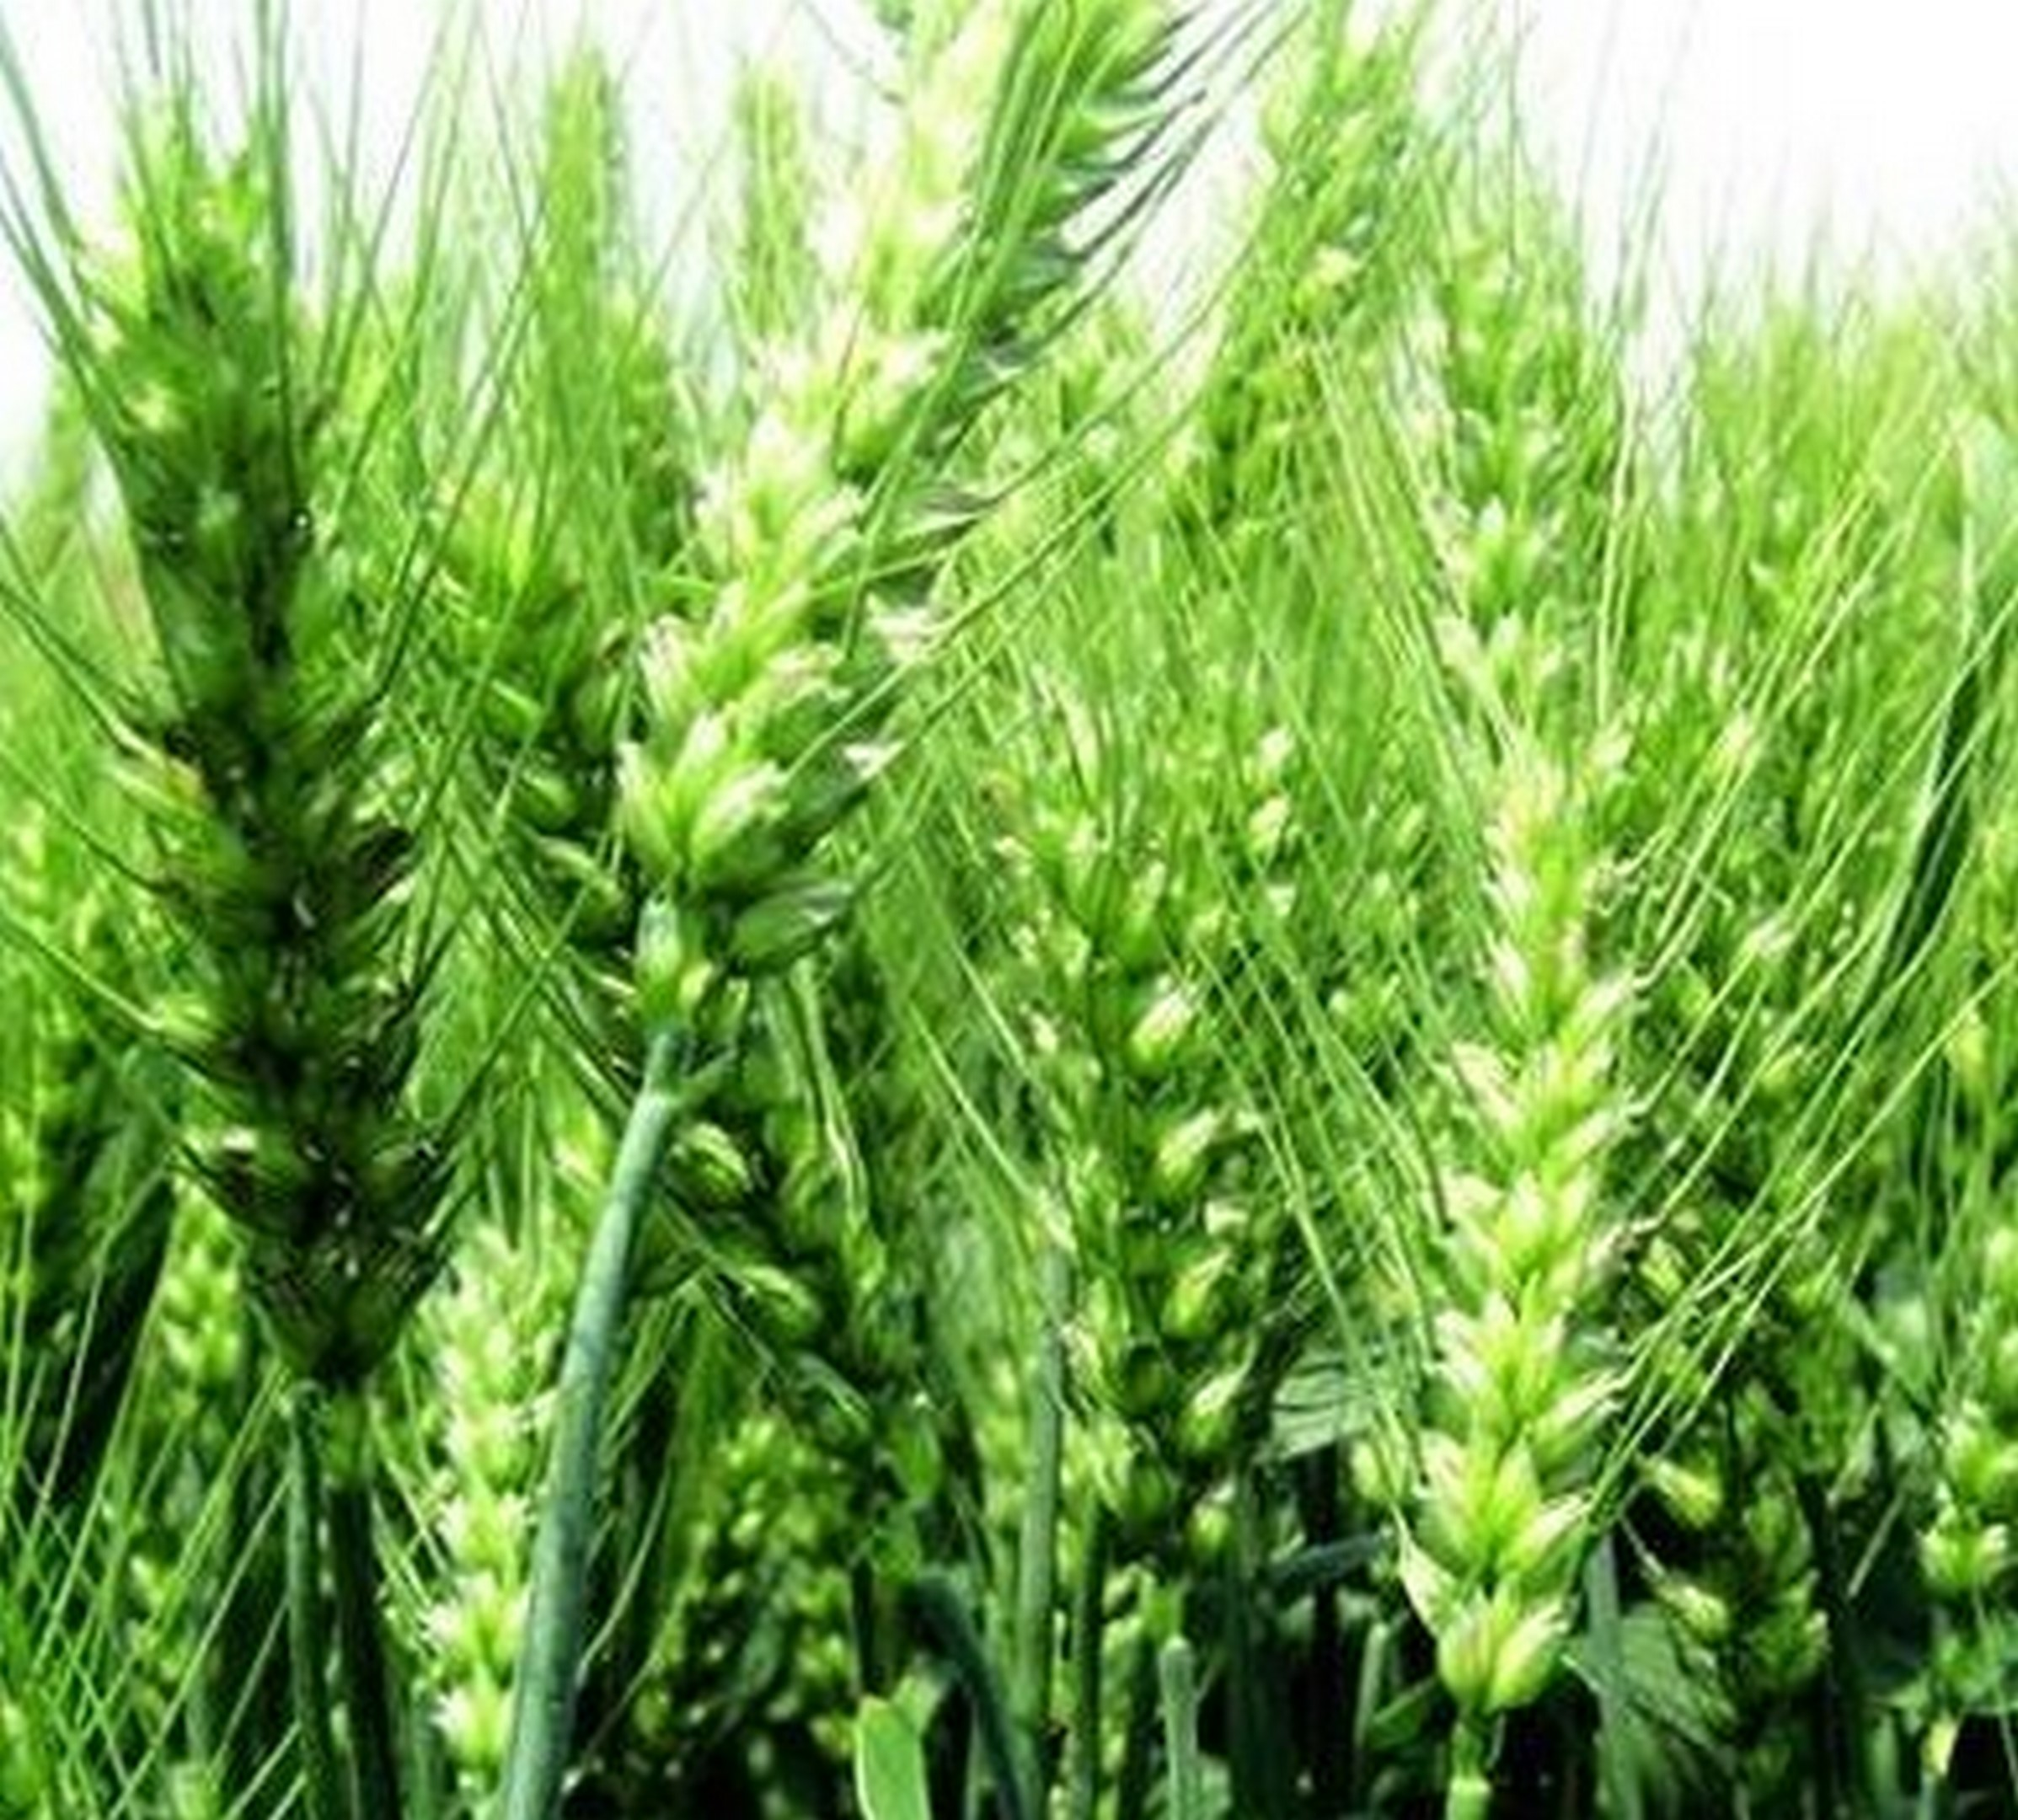Healthy Wheat: (1393, 733, 1684, 1760)
